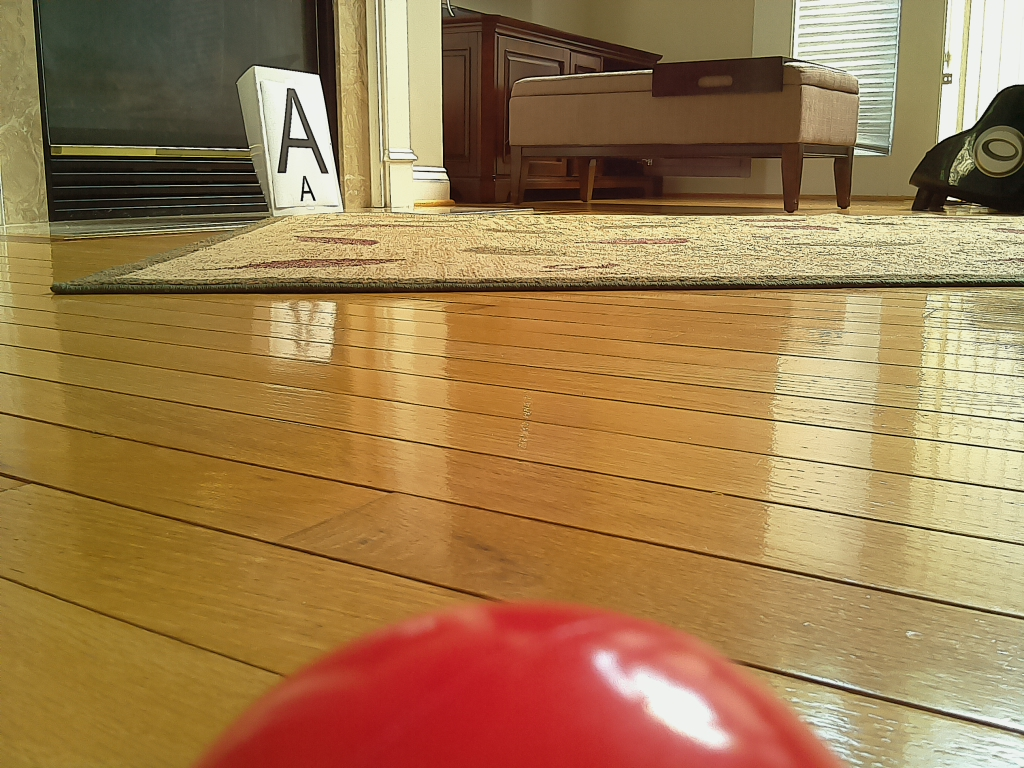letter: (275, 87, 328, 174)
